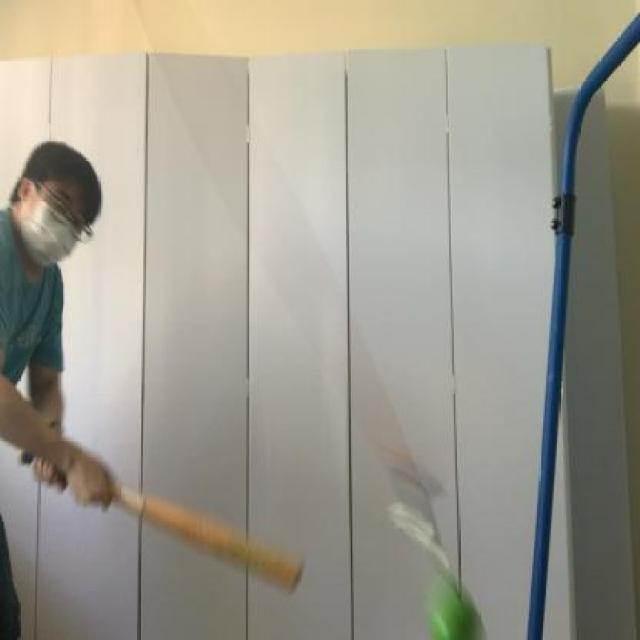baseball: (424, 574, 490, 640)
